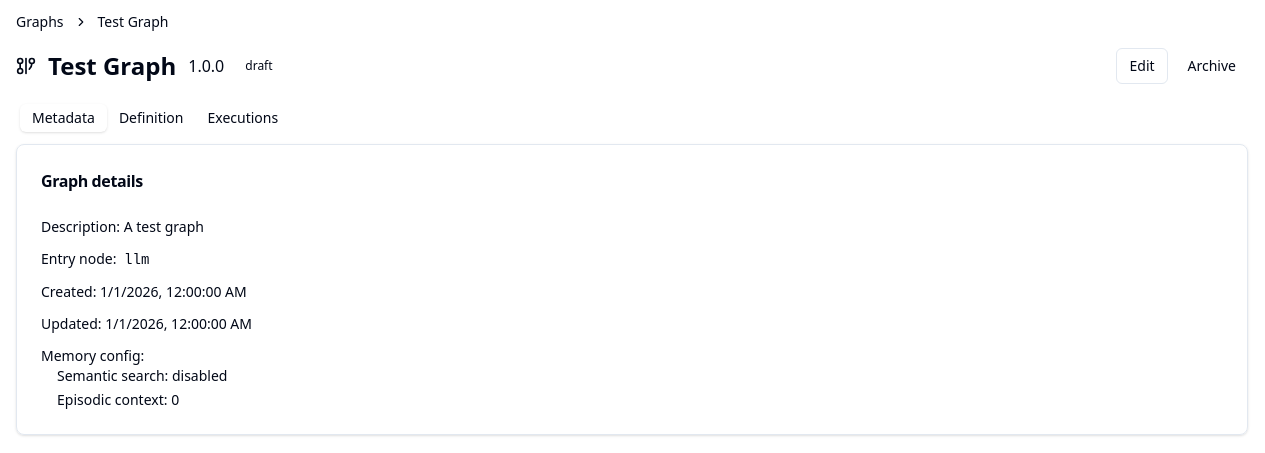
Scenario: GraphDetailPage › shows definition viewer on Definición tab
The image size is (1265, 453).
Expected: the heading "Test Graph" is shown, [48,50,176,82]
Click the tab "Definition": (151, 118) [107,104,196,132]
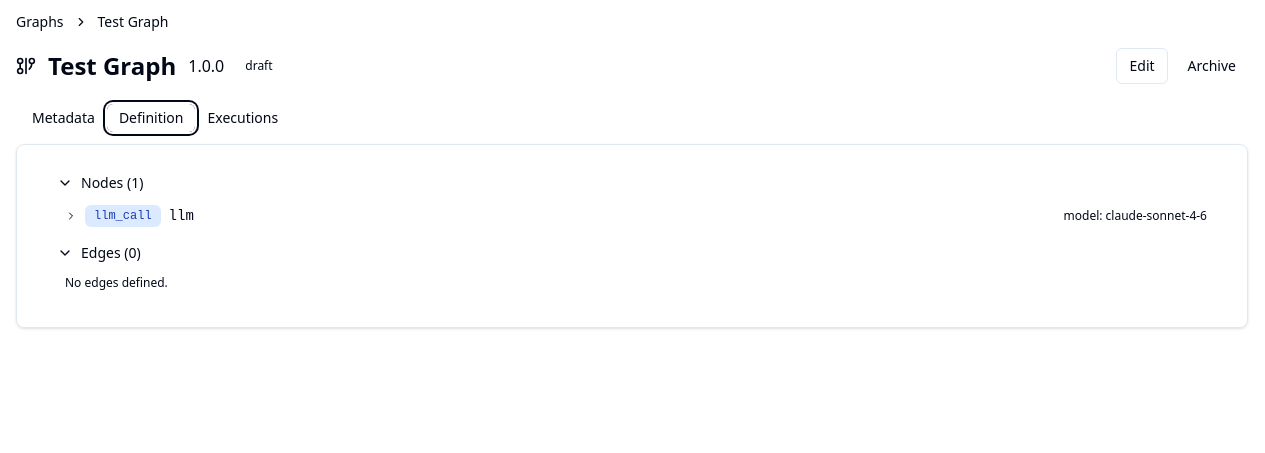
Expected: the text "llm_call" is shown, [85,205,161,227]
